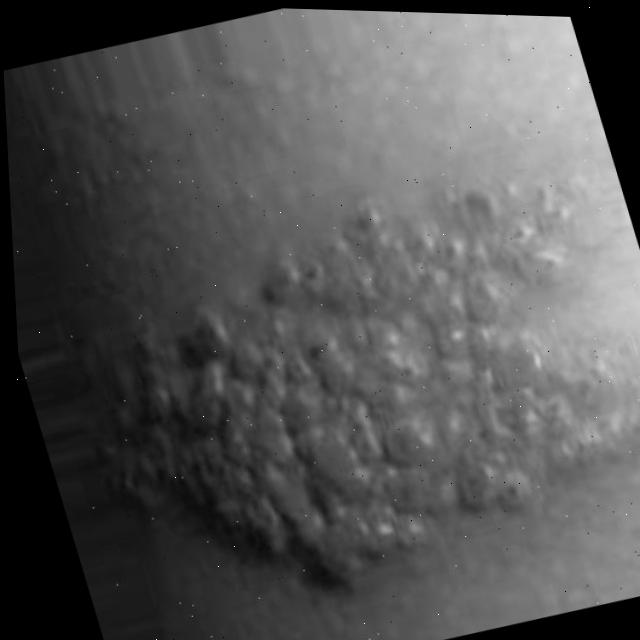Shingles: (22, 118, 640, 640)
